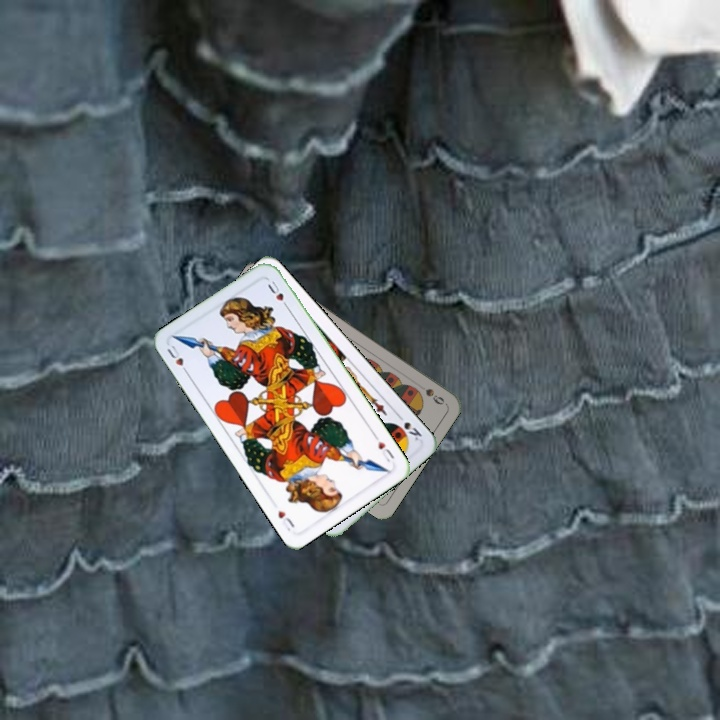HU: (163, 341, 191, 377), (370, 430, 397, 465)
S9: (412, 378, 447, 407)
SK: (391, 409, 425, 443)
